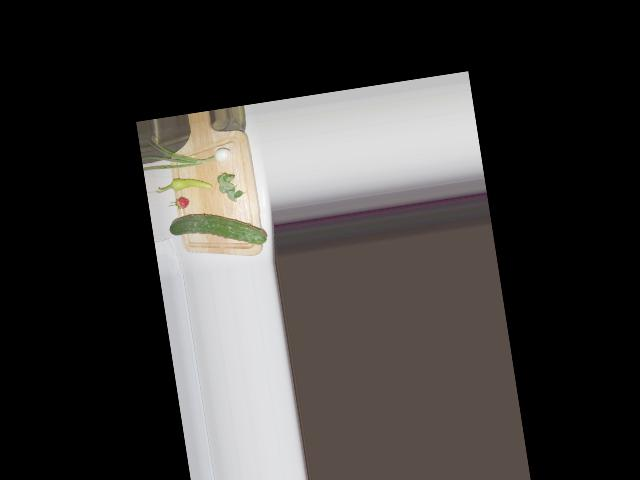cucumber: (168, 204, 267, 257)
